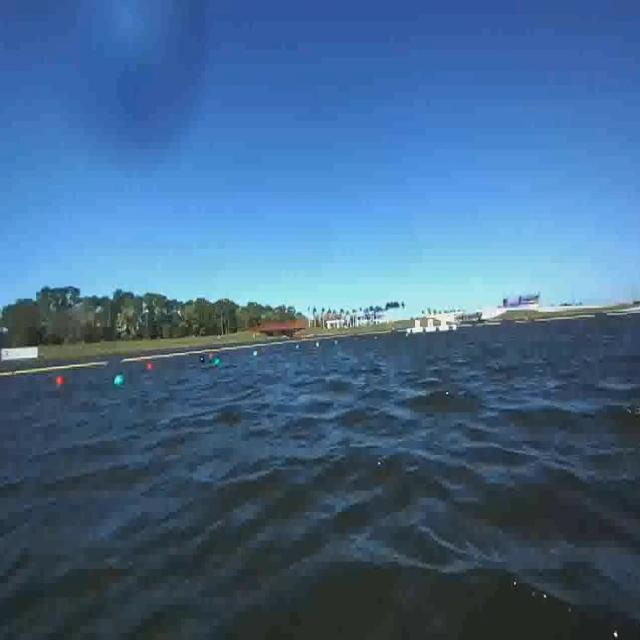green-buoy: (116, 373, 128, 386)
red-buoy: (57, 377, 66, 386)
